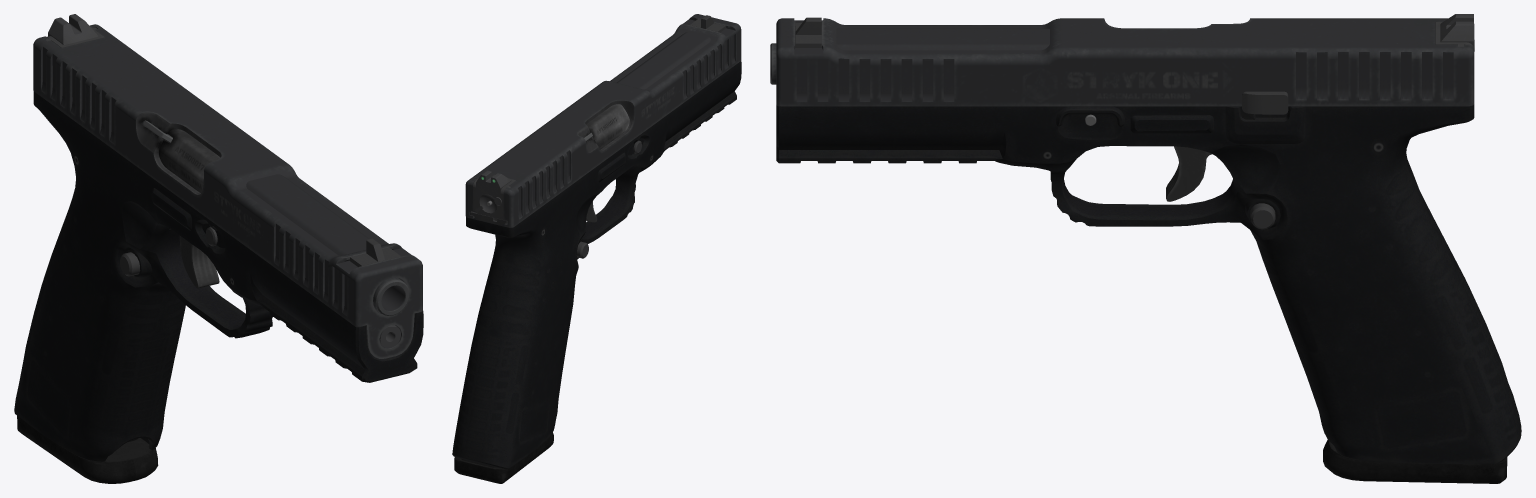
File: pistol_stryk_prototype.fbx
3 views of the same model, side by side, from view 1: azimuth 30°, elevation 25°; view 2: azimuth 150°, elevation 25°; view 3: azimuth 270°, elevation 25° (orthographic). The views are drawn at different scales.
Parts seen in each view (by area): view 1: pistol_stryk_prototype_body; view 2: pistol_stryk_prototype_body; view 3: pistol_stryk_prototype_body.
Boxes of the visible parts, x1,y1,x2,y2 form: pistol_stryk_prototype_body: (14,14,423,483); pistol_stryk_prototype_body: (452,14,741,483); pistol_stryk_prototype_body: (770,14,1521,483).
Bounding box in the file's own units: 1.23 × 5.87 × 8.92.
Materials: 1 (1 with a texture image).
